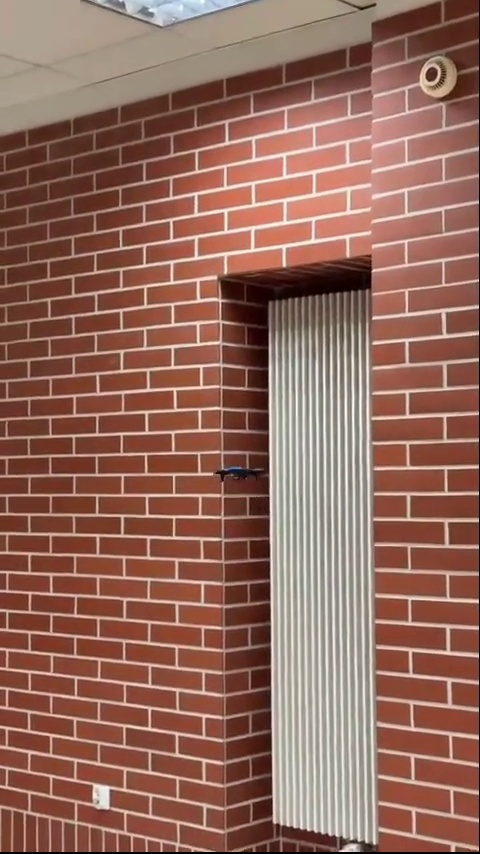drone: (214, 462, 269, 484)
